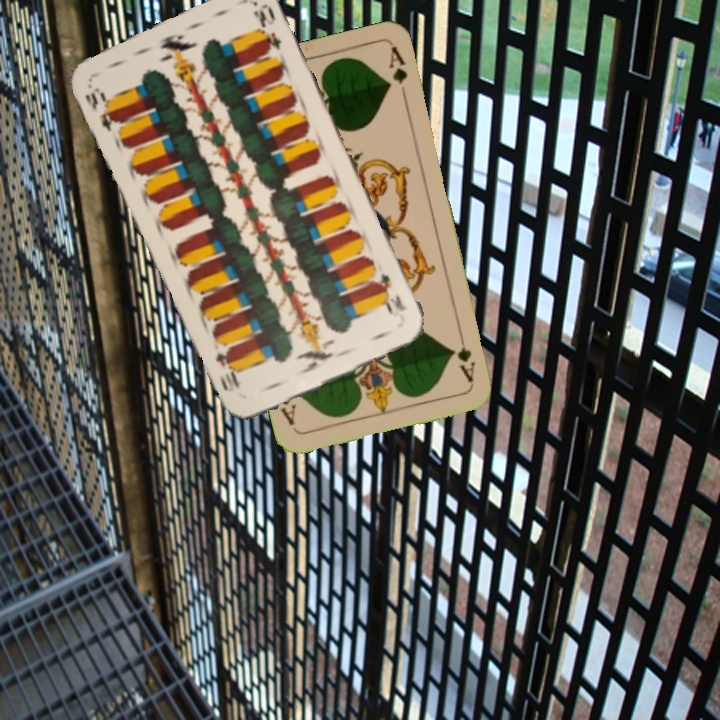E10: (81, 83, 124, 135), (373, 268, 409, 316)
GA: (453, 326, 478, 385)
